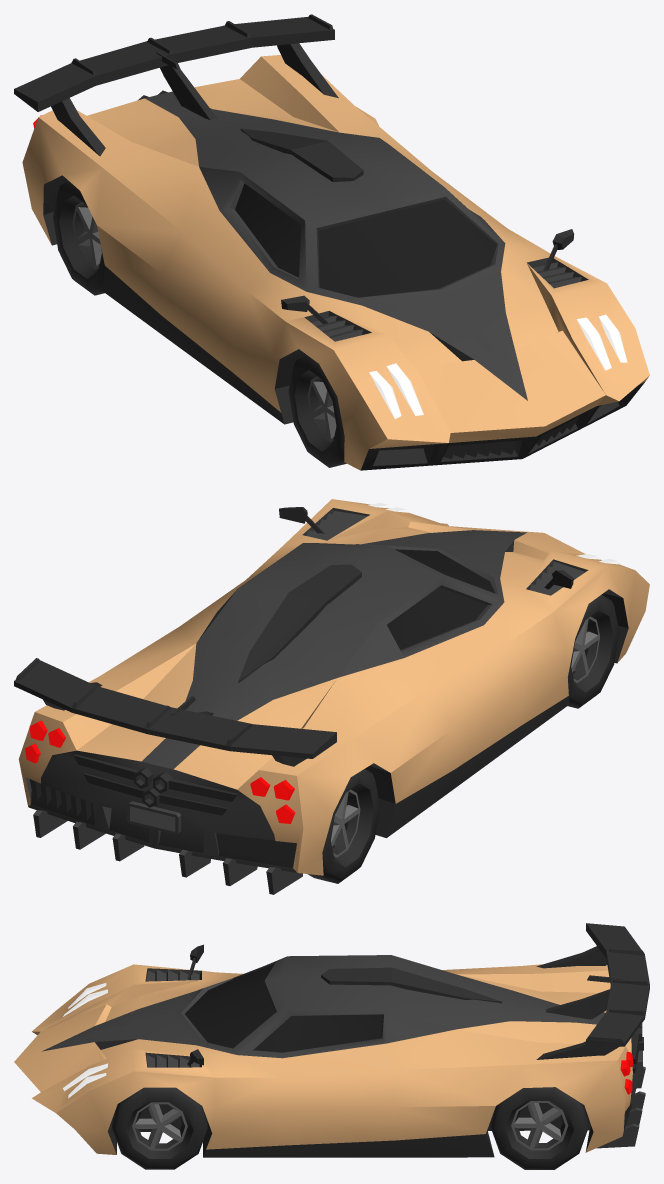
The model's file is imola.glb.
3 renders of one model, top to bottom at view 1: azimuth 30°, elevation 25°; view 2: azimuth 150°, elevation 25°; view 3: azimuth 270°, elevation 25°, orthographic. The views are drawn at different scales.
Parts seen in each view (by area): view 1: imola, wheel1.003, wheel2.008; view 2: imola, wheel2.008, wheel1.003; view 3: imola, wheel2.009, wheel1.005.
Boxes of the visible parts, bbox=[...] form: imola: bbox=[14, 14, 649, 470]; wheel1.003: bbox=[288, 354, 346, 467]; wheel2.008: bbox=[53, 181, 104, 295]; imola: bbox=[14, 499, 649, 894]; wheel2.008: bbox=[307, 769, 379, 883]; wheel1.003: bbox=[567, 594, 619, 708]; imola: bbox=[14, 923, 649, 1157]; wheel2.009: bbox=[490, 1087, 588, 1169]; wheel1.005: bbox=[112, 1087, 207, 1169].
Size of the model in its own units: 2.79 by 1.6 by 6.43.
Materials: 4 (4 with a texture image).
